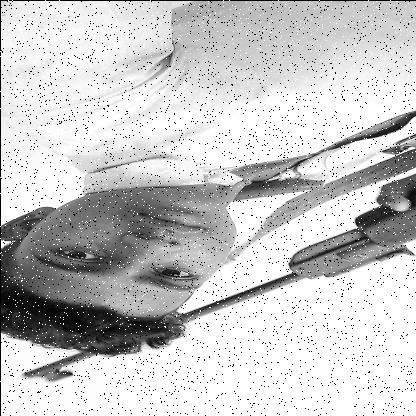rifle: (17, 192, 416, 384)
